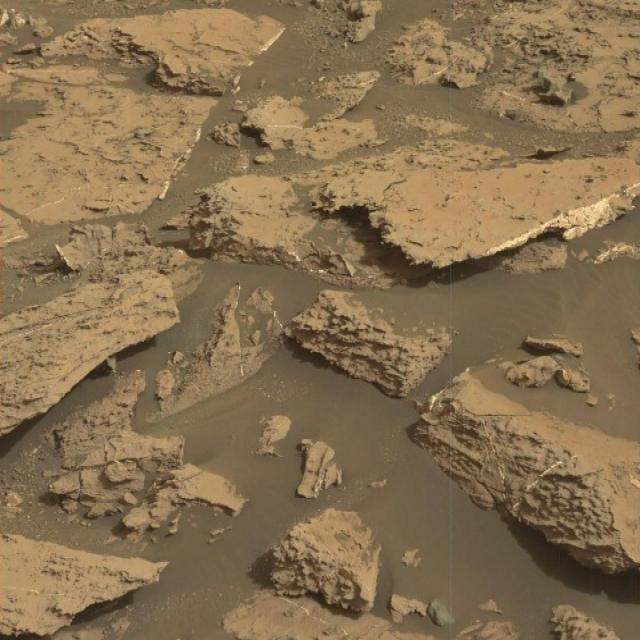rock: (267, 504, 383, 616), (190, 171, 308, 264)
